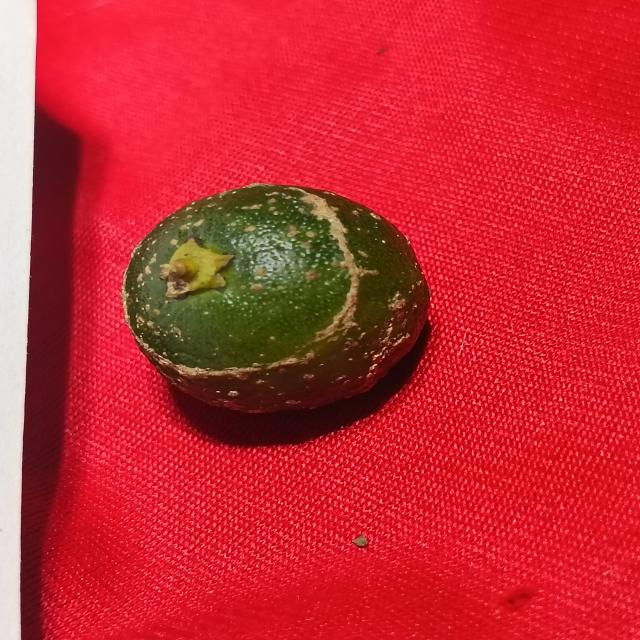scab: (120, 184, 422, 420)
